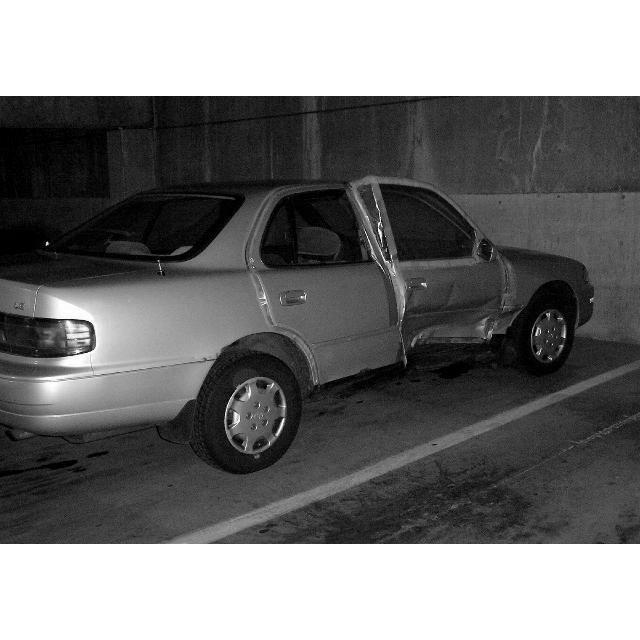doorouter-dent: (366, 175, 514, 372)
